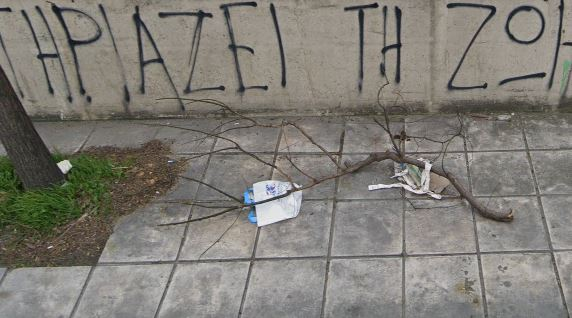trash: (363, 146, 458, 207), (227, 168, 310, 229), (49, 150, 77, 179)
